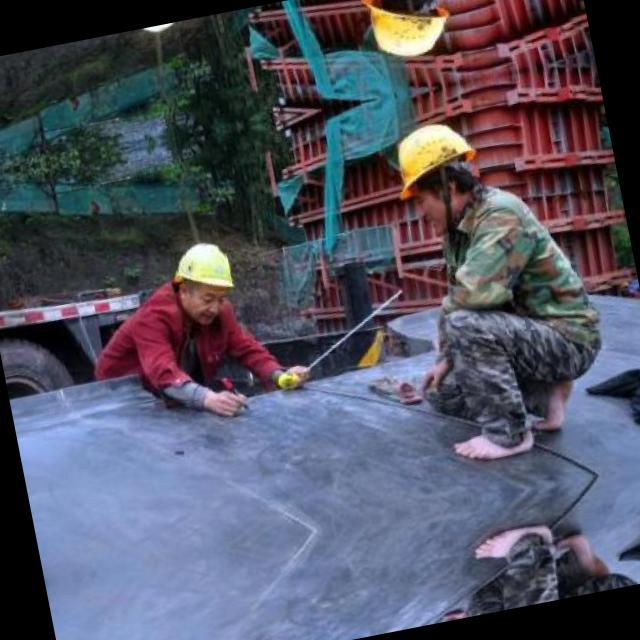helmet: (379, 104, 498, 238), (352, 0, 468, 77), (157, 230, 242, 332)
